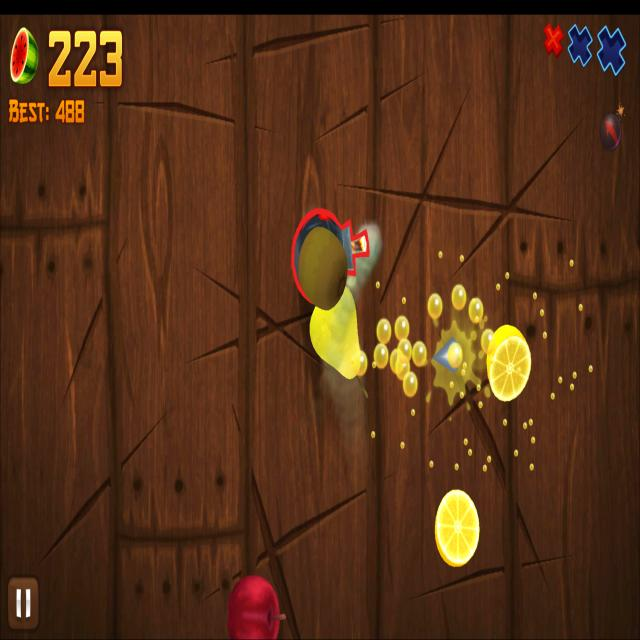bomb: (291, 206, 371, 304)
fruit: (310, 283, 362, 379), (298, 229, 348, 309), (228, 577, 278, 640)
